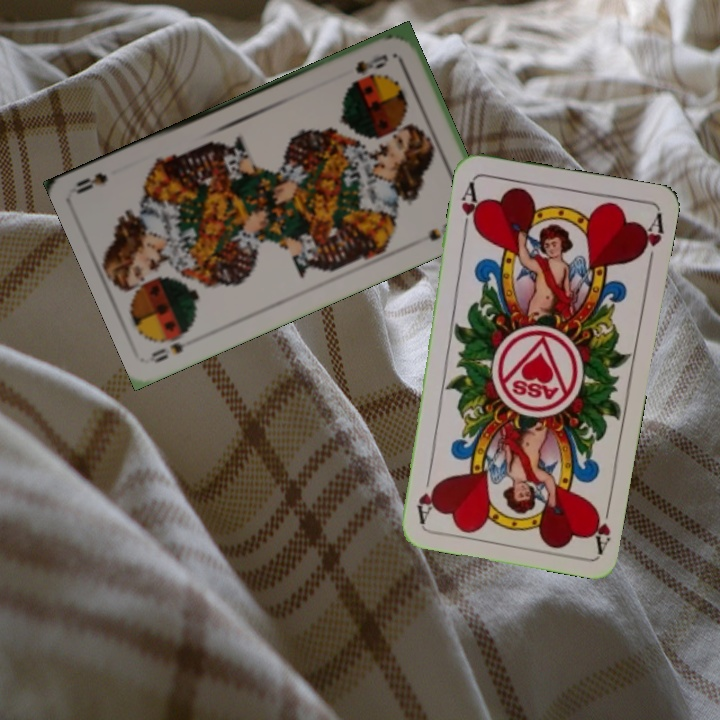HA: (586, 495, 614, 554), (457, 177, 483, 236)
SO: (351, 50, 391, 78), (147, 338, 186, 366)
